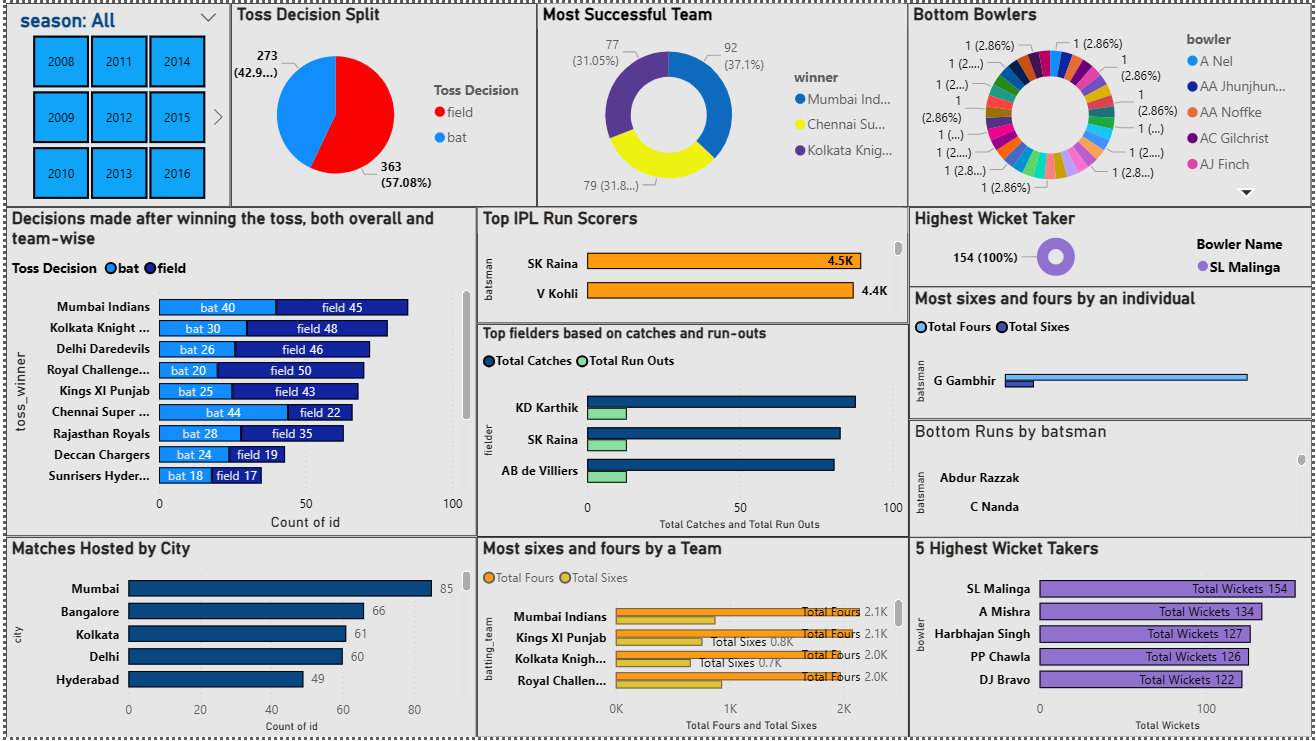

The dashboard page shown, as its layout file describes it:
{"tool":"powerbi","page":{"name":"Page 1","canvas":[1280,720],"ordinal":0},"visuals":[{"type":"clusteredBarChart","title":"Top IPL Run Scorers","fields":{"Category":["deliveries.batsman"],"Y":["deliveries.Batsman Runs"]},"box":[461.4,200,422.9,114.3],"z":0},{"type":"donutChart","title":"Most Successful Team","fields":{"Category":["matches.winner"],"Y":["CountNonNull(matches.id)"]},"box":[520,0,364.3,200],"z":1000},{"type":"pieChart","title":"Toss Decision Split","fields":{"Category":["matches.toss_decision"],"Y":["CountNonNull(matches.id)"]},"box":[220,0,300,200],"z":2000},{"type":"slicer","fields":{"Values":["matches.season"]},"box":[0,0,220,200],"z":3000},{"type":"clusteredBarChart","title":"Matches Hosted by City","fields":{"Category":["matches.city"],"Y":["CountNonNull(matches.id)"]},"box":[0,522.9,461.4,197.1],"z":4000},{"type":"clusteredBarChart","title":"Bottom Runs by batsman","fields":{"Y":["deliveries.Batsman Runs"],"Category":["deliveries.batsman"]},"box":[885,408.3,395,115],"z":5000},{"type":"donutChart","title":"Highest Wicket Taker","fields":{"Category":["deliveries.bowler"],"Y":["deliveries.Total Wickets"]},"box":[885,200,395,78.3],"z":6000},{"type":"donutChart","title":"Bottom Bowlers","fields":{"Category":["deliveries.bowler"],"Y":["deliveries.Total Wickets"]},"box":[884.3,0,395.7,200],"z":7000},{"type":"clusteredBarChart","title":"5 Highest Wicket Takers","fields":{"Category":["deliveries.bowler"],"Y":["deliveries.Total Wickets"]},"box":[885,523.3,395,196.7],"z":8000},{"type":"clusteredBarChart","title":"Top fielders based on catches and run-outs","fields":{"Category":["deliveries.fielder"],"Y":["deliveries.Total Catches","deliveries.Total Run Outs"]},"box":[461.7,315,423.3,208.3],"z":9000},{"type":"clusteredBarChart","title":"Most sixes and fours by  an individual","fields":{"Category":["deliveries.batsman"],"Y":["deliveries.Total Fours","deliveries.Total Sixes"]},"box":[885,278.3,395,130],"z":10000},{"type":"clusteredBarChart","title":"Most sixes and fours by a Team","fields":{"Category":["deliveries.batting_team"],"Y":["deliveries.Total Fours","deliveries.Total Sixes"]},"box":[461.7,523.3,423.3,196.7],"z":11000},{"type":"barChart","title":"Decisions made after winning the toss, both overall and team-wise","fields":{"Category":["matches.toss_winner"],"Y":["CountNonNull(matches.id)"],"Series":["matches.toss_decision"]},"box":[0,200,461.4,322.9],"z":12000}]}

Visuals, with their boxes in screenshot pixels (x1, y1, x2, y2), scaled from the page's 1280x720 canvas onto the 1316x741 screenshot:
"Top IPL Run Scorers" clusteredBarChart: (474, 206, 909, 323)
"Most Successful Team" donutChart: (535, 0, 909, 206)
"Toss Decision Split" pieChart: (226, 0, 535, 206)
slicer - matches.season: (0, 0, 226, 206)
"Matches Hosted by City" clusteredBarChart: (0, 538, 474, 740)
"Bottom Runs by batsman" clusteredBarChart: (910, 420, 1315, 539)
"Highest Wicket Taker" donutChart: (910, 206, 1315, 286)
"Bottom Bowlers" donutChart: (909, 0, 1315, 206)
"5 Highest Wicket Takers" clusteredBarChart: (910, 539, 1315, 740)
"Top fielders based on catches and run-outs" clusteredBarChart: (475, 324, 910, 539)
"Most sixes and fours by  an individual" clusteredBarChart: (910, 286, 1315, 420)
"Most sixes and fours by a Team" clusteredBarChart: (475, 539, 910, 740)
"Decisions made after winning the toss, both overall and team-wise" barChart: (0, 206, 474, 538)
